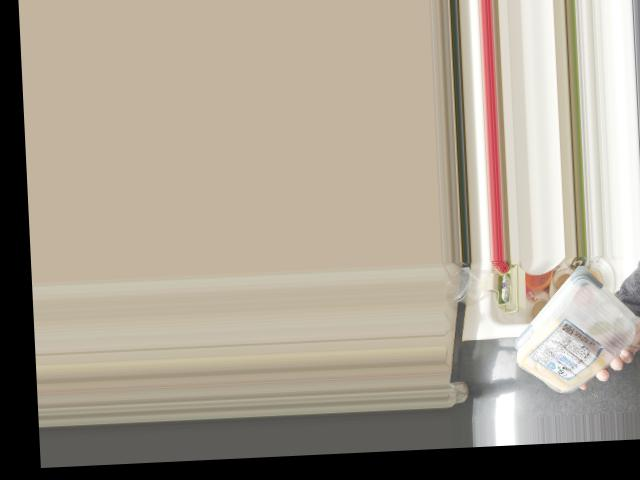cheese: (511, 281, 640, 387)
